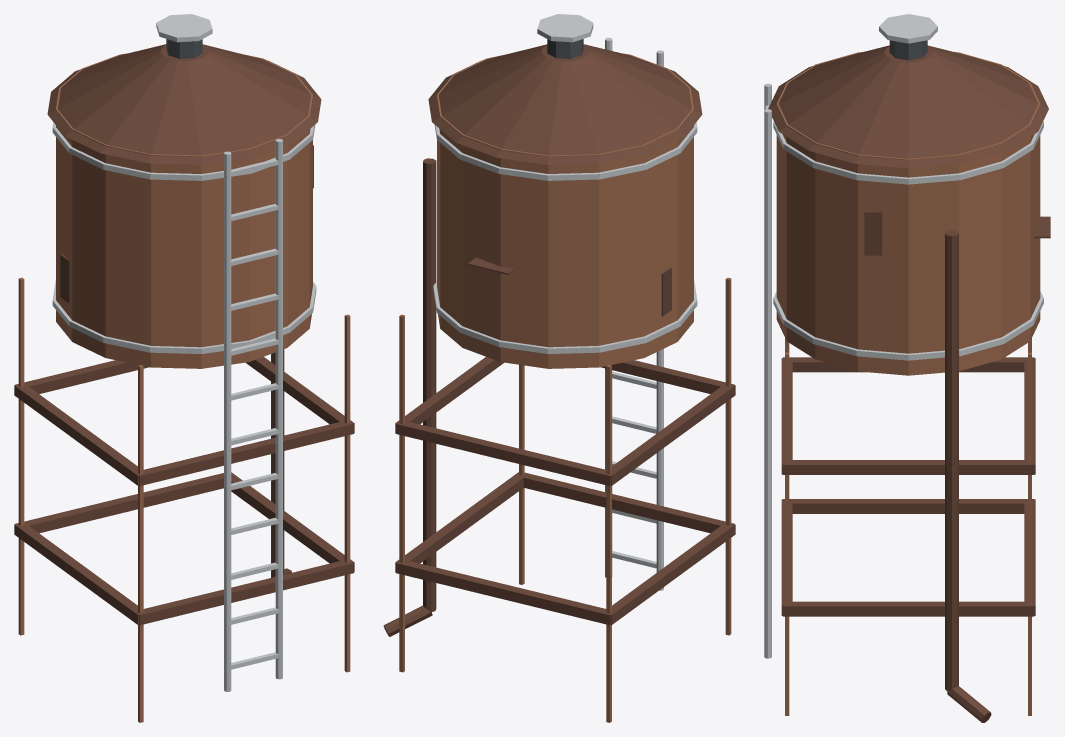
The model's file is WaterTower.fbx.
The picture shows the model from 3 angles, left to right: view 1: azimuth 30°, elevation 25°; view 2: azimuth 150°, elevation 25°; view 3: azimuth 270°, elevation 25°; orthographic projection.
Parts seen in each view (by area): view 1: WaterTower; view 2: WaterTower; view 3: WaterTower.
Boxes of the visible parts, x1,y1,x2,y2 form: WaterTower: (14, 14, 354, 722); WaterTower: (383, 14, 735, 722); WaterTower: (764, 14, 1050, 722).
Bounding box in the file's own units: 3.58 × 8.11 × 3.31.
